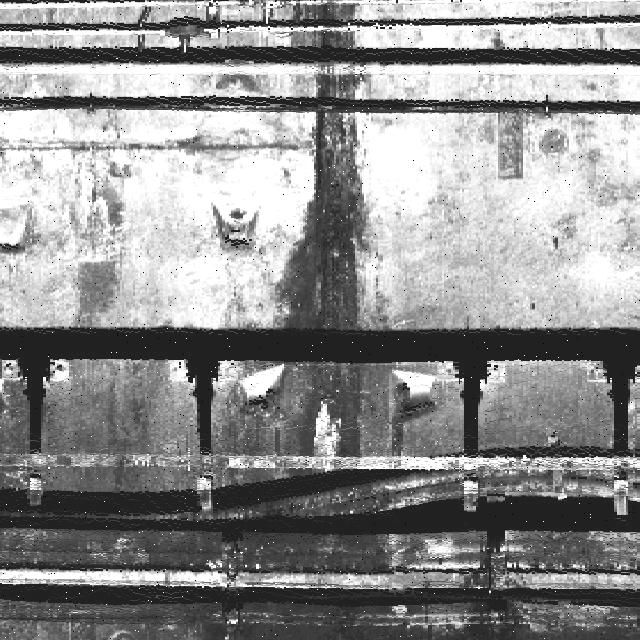leakage: (262, 0, 394, 464)
